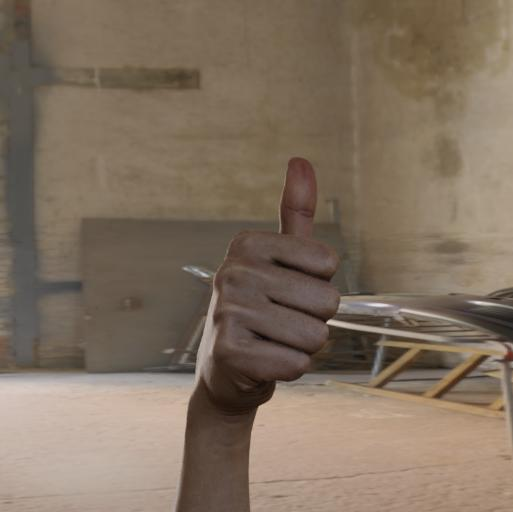thumbs-up: (191, 150, 346, 410)
